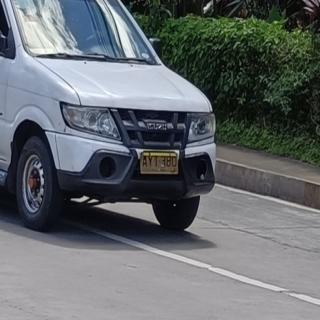license: (142, 152, 179, 175)
